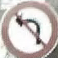Don't turn left: (3, 0, 52, 57)
